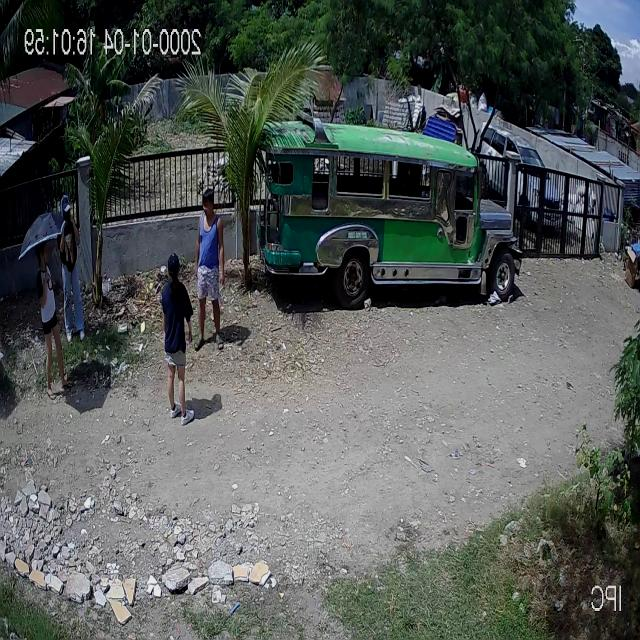standing: (159, 253, 197, 426), (36, 239, 72, 400), (194, 189, 225, 354), (54, 194, 86, 344)
